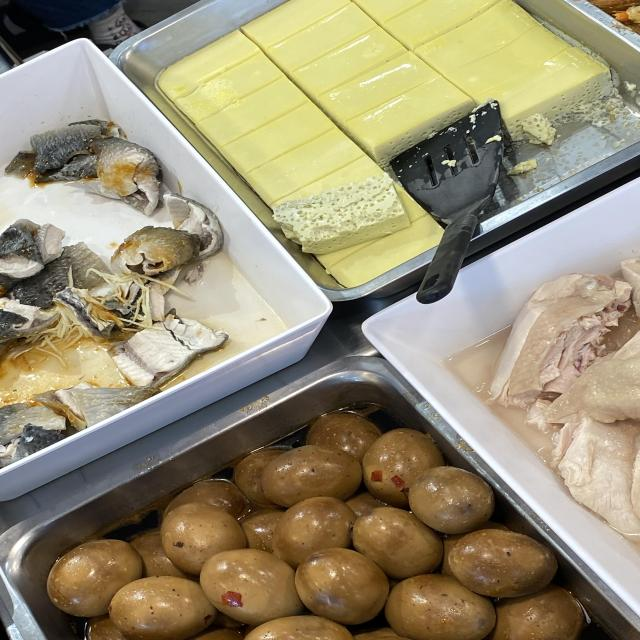braised egg: (144, 501, 474, 640)
steamed egg: (268, 15, 471, 115)
